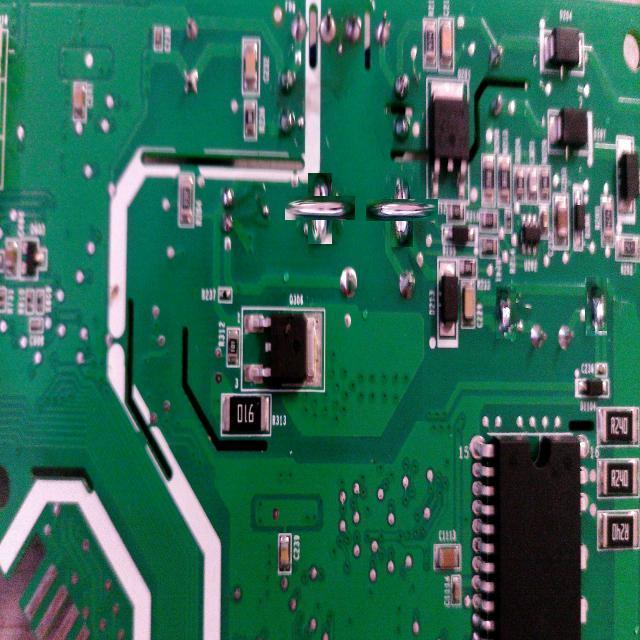Short_circuit: (378, 187, 426, 234), (296, 185, 344, 232), (586, 276, 608, 336), (496, 287, 516, 339)
